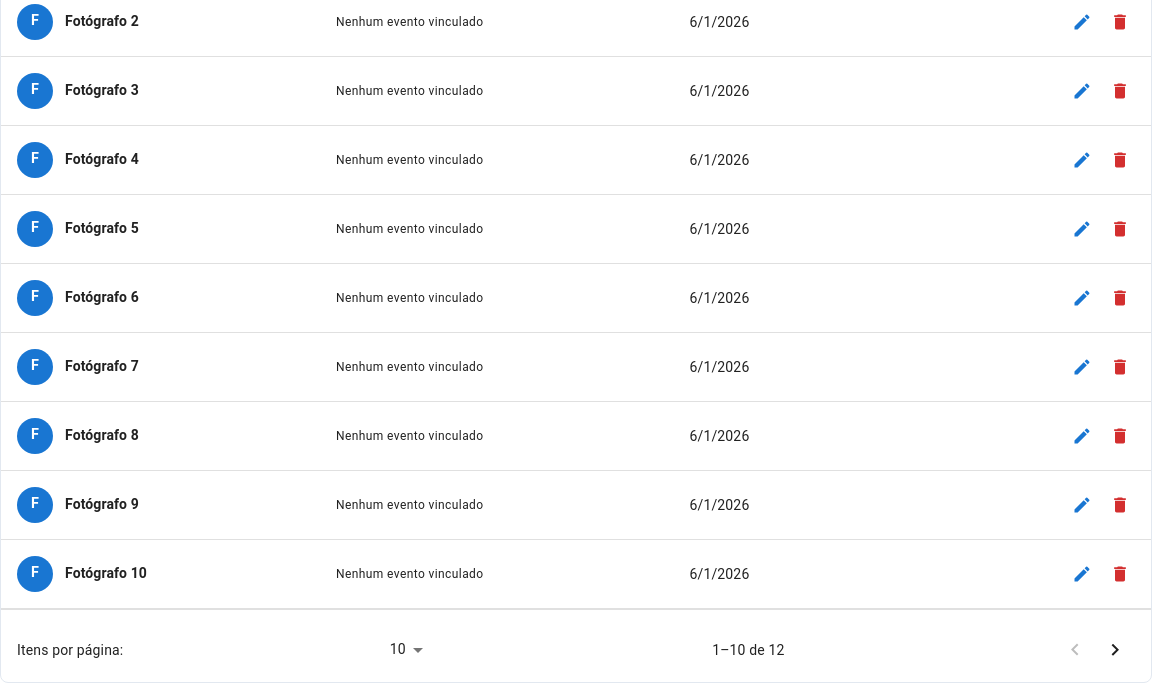
Test: PhotographersPage › paginates photographers when list exceeds rowsPerPage
(page scrolled)
Expected: the heading "Fotógrafo 10" is shown, x1=65 y1=562 x2=147 y2=584
Expected: the text "Fotógrafo 11" is not shown
Click the button named "Go to next page".
click(1115, 650)  # box x1=1095 y1=630 x2=1135 y2=670
(page scrolled)
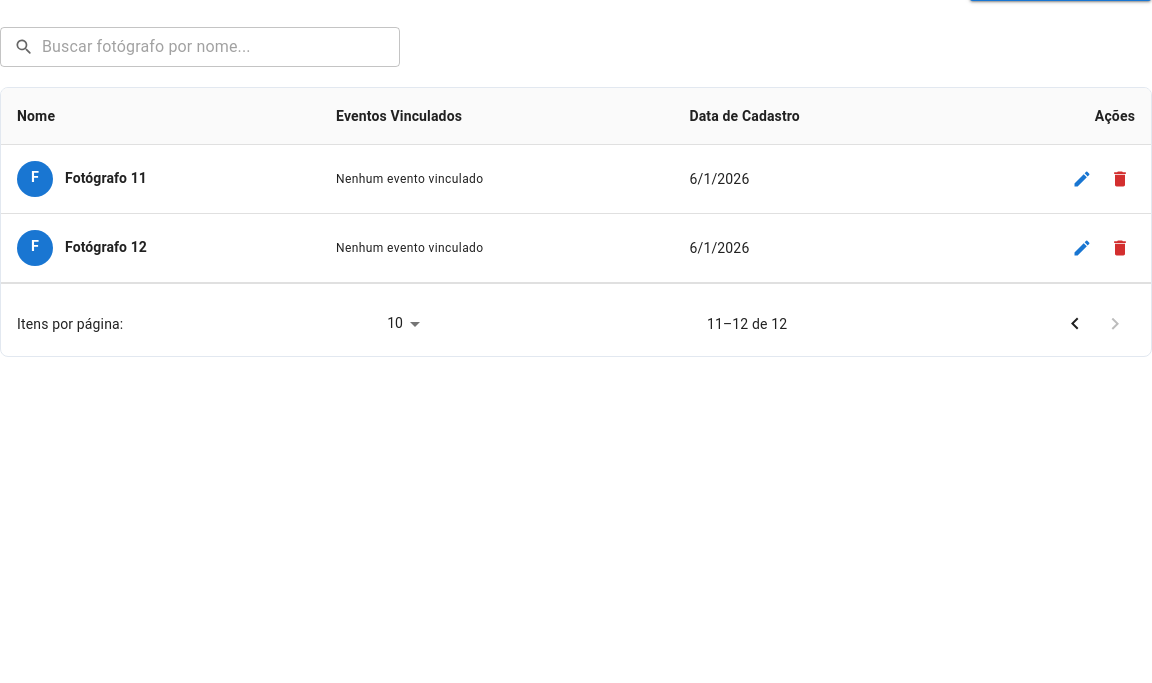
Now the heading "Fotógrafo 11" is shown, box x1=65 y1=168 x2=147 y2=190
Now the heading "Fotógrafo 12" is shown, box x1=65 y1=236 x2=147 y2=258
